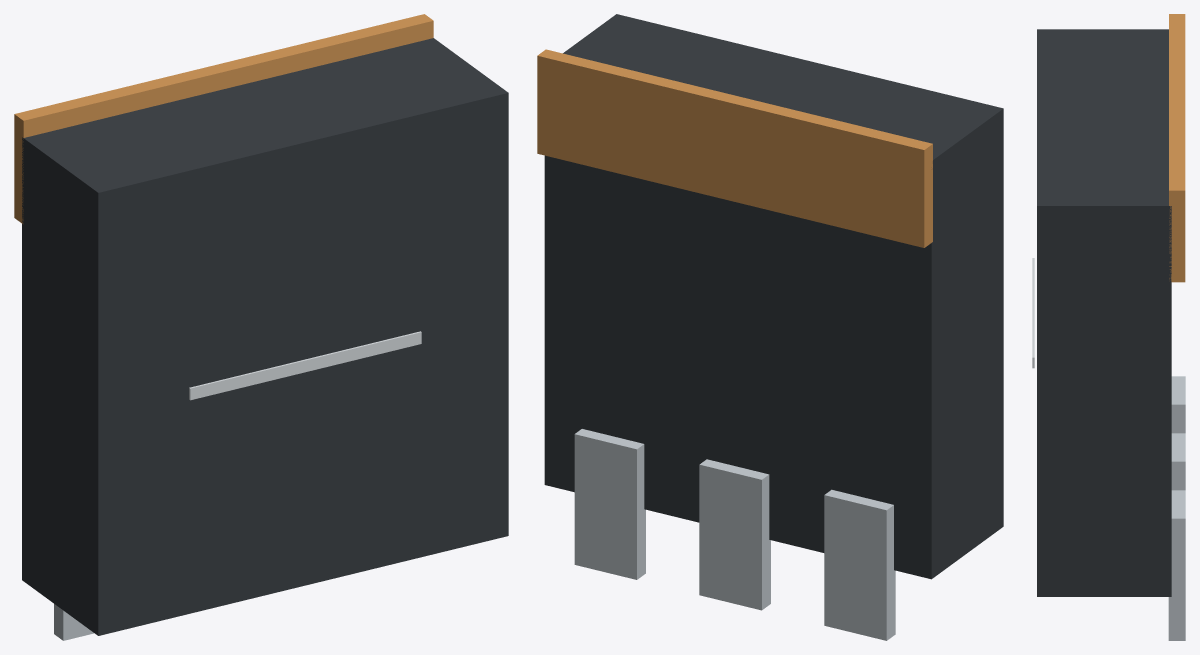
3 renders of one model, left to right at view 1: azimuth 30°, elevation 25°; view 2: azimuth 150°, elevation 25°; view 3: azimuth 270°, elevation 25°, orthographic. The views are drawn at different scales.
Visible parts, largest first — view 1: Power_Package, Exposed_Copper_Tab, Part_Marking, Power_Lead_0; view 2: Power_Package, Exposed_Copper_Tab, Power_Lead_2, Power_Lead_1, Power_Lead_0; view 3: Power_Package, Exposed_Copper_Tab, Power_Lead_2, Power_Lead_0, Power_Lead_1, Part_Marking.
Boxes of the visible parts, bbox=[...] form: Power_Package: bbox=[22, 38, 508, 635]; Exposed_Copper_Tab: bbox=[14, 14, 433, 224]; Part_Marking: bbox=[189, 331, 421, 400]; Power_Lead_0: bbox=[54, 604, 93, 640]; Power_Package: bbox=[544, 14, 1003, 579]; Exposed_Copper_Tab: bbox=[537, 49, 932, 247]; Power_Lead_2: bbox=[574, 429, 645, 579]; Power_Lead_1: bbox=[699, 459, 770, 610]; Power_Lead_0: bbox=[824, 489, 895, 640]; Power_Package: bbox=[1037, 29, 1171, 596]; Exposed_Copper_Tab: bbox=[1169, 14, 1185, 282]; Power_Lead_2: bbox=[1168, 490, 1185, 640]; Power_Lead_0: bbox=[1171, 376, 1185, 433]; Power_Lead_1: bbox=[1171, 433, 1185, 490]; Part_Marking: bbox=[1032, 258, 1034, 368].
Size of the model in its own units: 0.0062 by 0.00765 by 0.00227.
